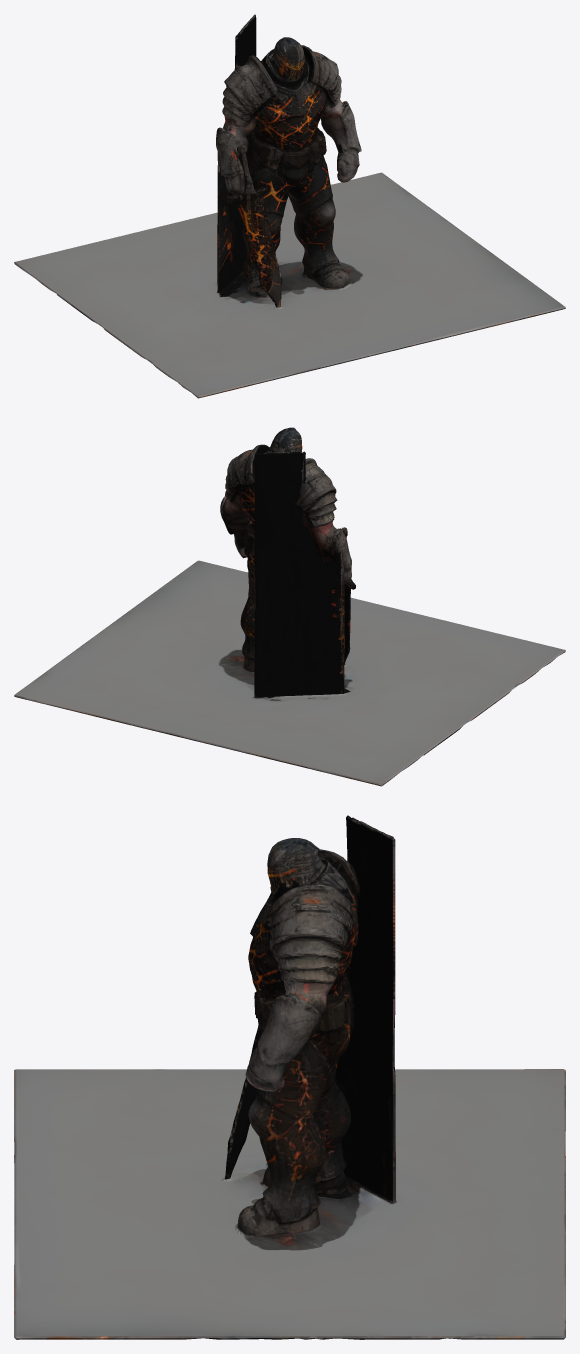
File: trivial_01.glb
The picture shows the model from 3 angles, top to bottom: view 1: azimuth 30°, elevation 25°; view 2: azimuth 150°, elevation 25°; view 3: azimuth 270°, elevation 25°; orthographic projection. The views are drawn at different scales.
Parts seen in each view (by area): view 1: textured_mesh.obj; view 2: textured_mesh.obj; view 3: textured_mesh.obj.
Part boxes in pixels (x1=…): textured_mesh.obj: x1=14, y1=14, x2=565, y2=398; textured_mesh.obj: x1=14, y1=427, x2=565, y2=786; textured_mesh.obj: x1=14, y1=815, x2=565, y2=1339.
Bounding box in the file's own units: 1.99 × 1.31 × 1.73.
Materials: 1 (1 with a texture image).
